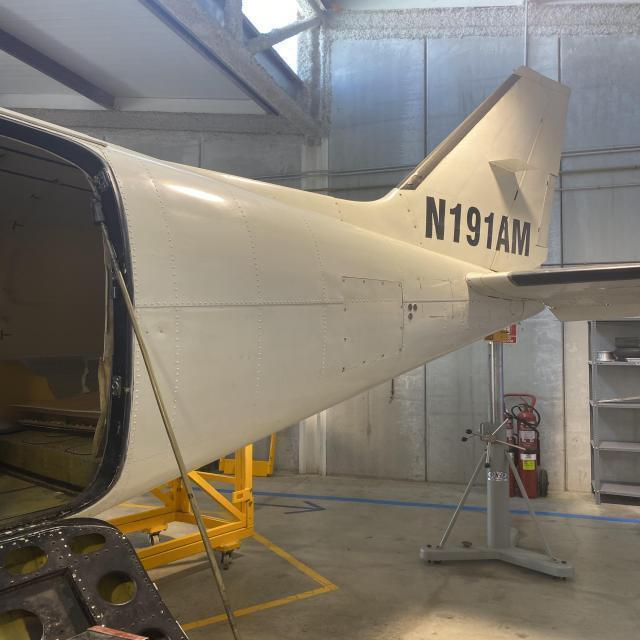Dent: (152, 322, 170, 340)
